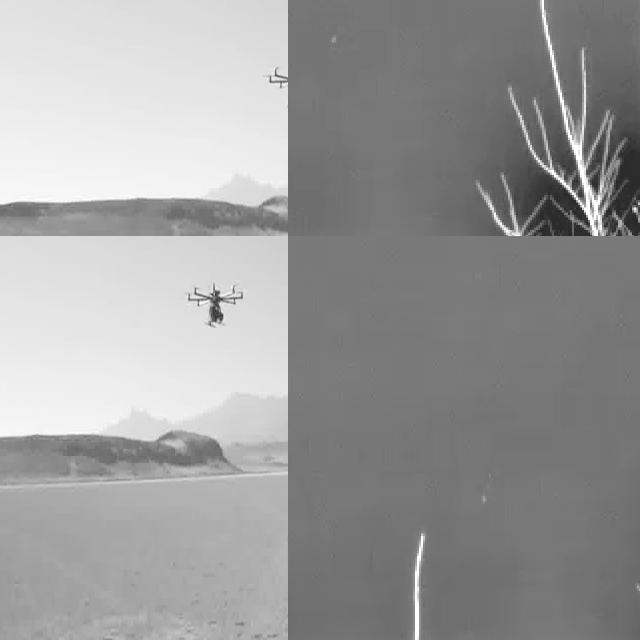0: (470, 481, 496, 516), (321, 28, 345, 60)
drone: (183, 278, 245, 332), (267, 56, 288, 114)
